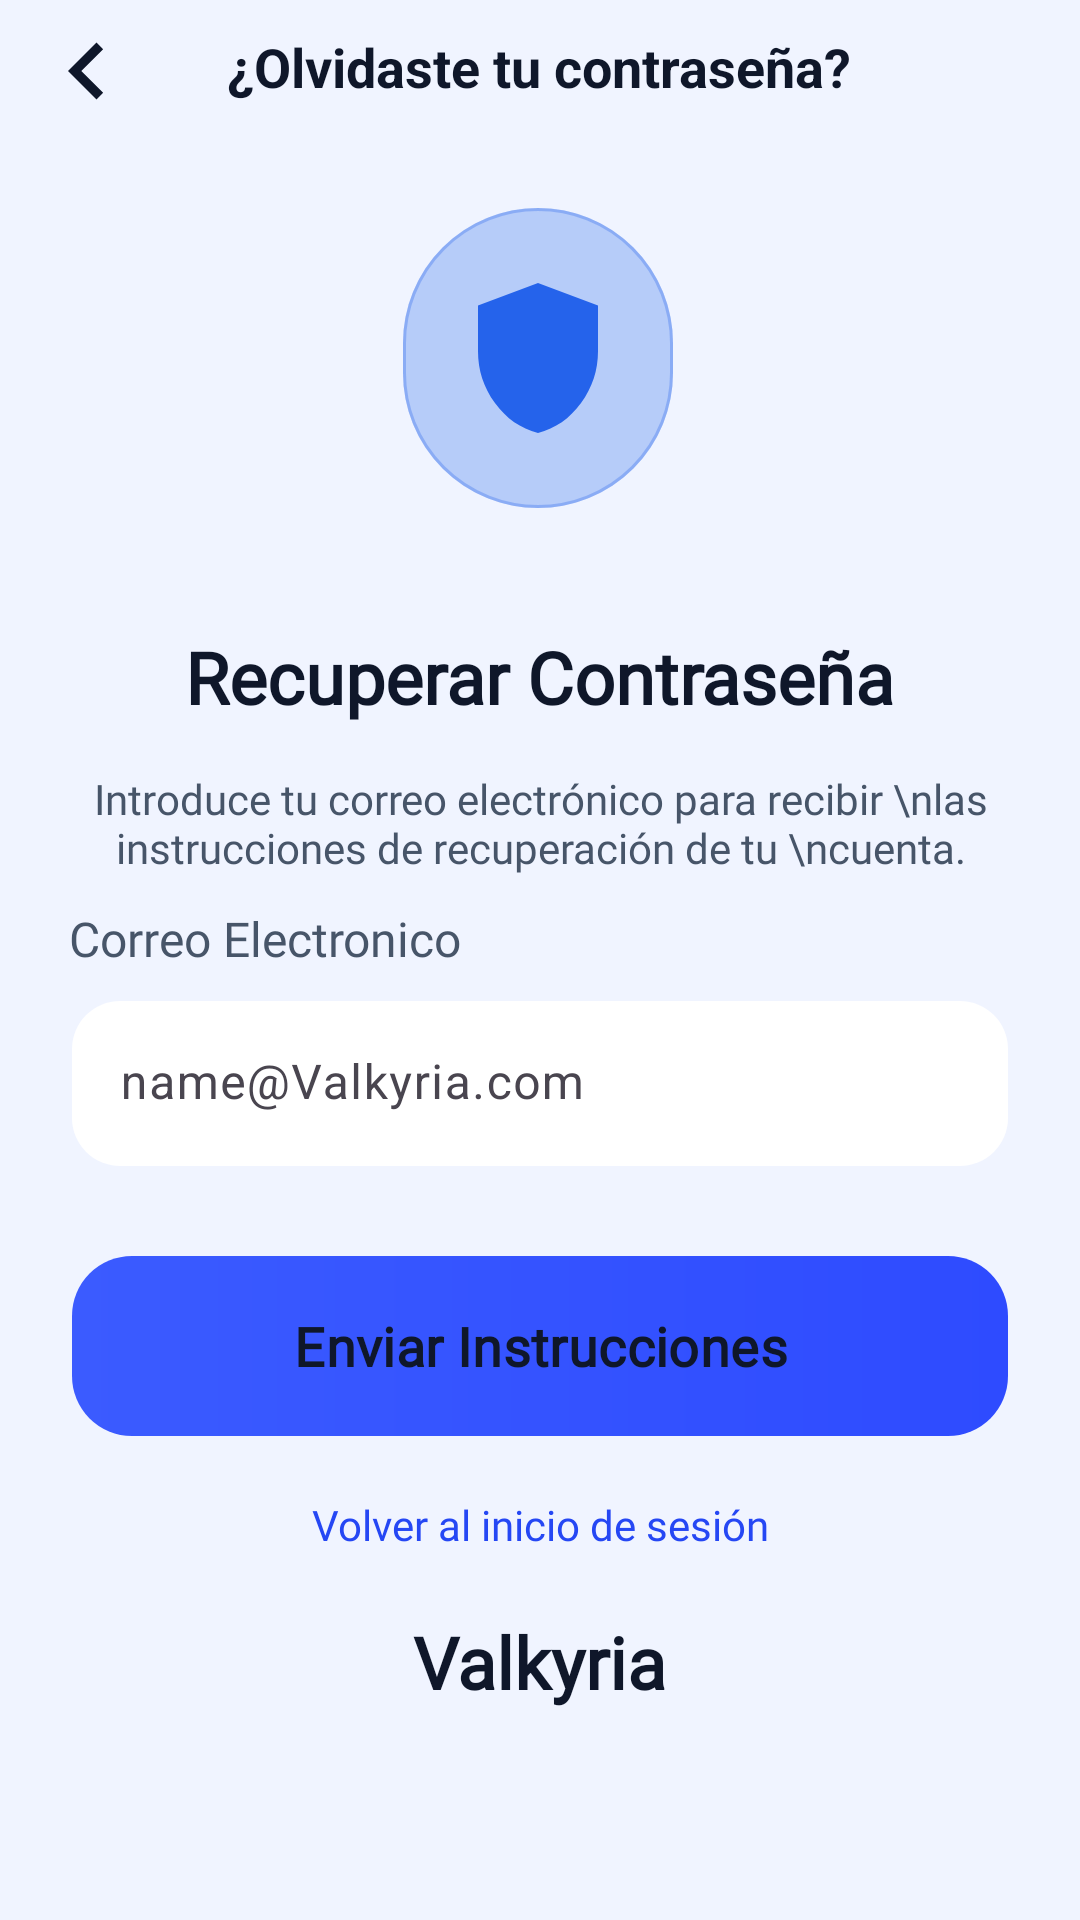

Named icons in this screenshot (1080*1920) and their centers, (x,y):
back: (85,71)
